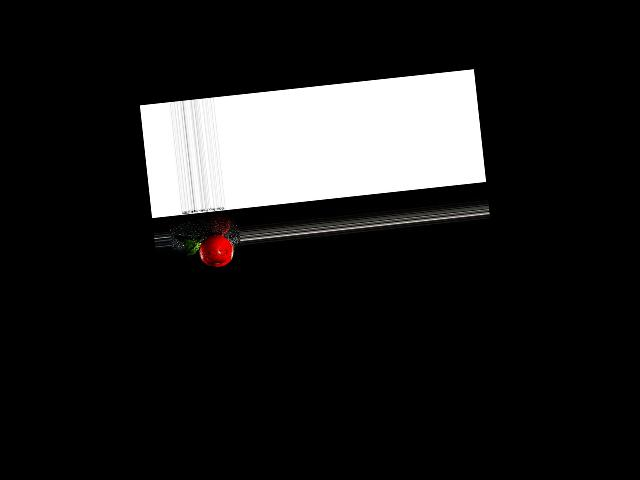tomato: (197, 233, 234, 269)
